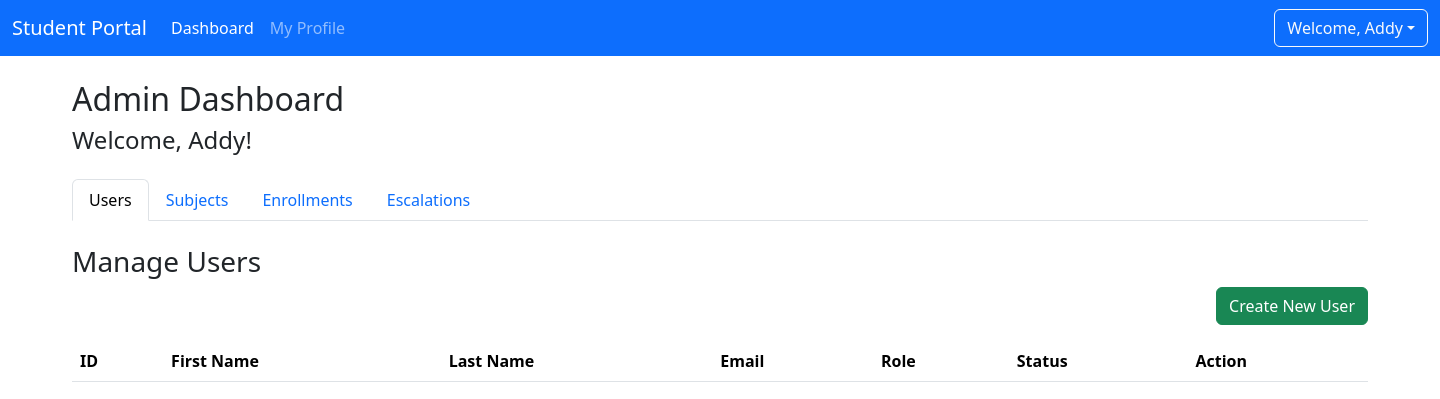
Test case: AdminDashboardPage — server-side pagination (26.7) › Enrollments tab › hides pagination on enrollments tab when totalCount is 0
This screenshot has width=1440, height=399.
Expected: the heading "Manage Users" is shown, [72,242,261,280]
Click the button "Enrollments": (308, 200) [246,179,370,221]
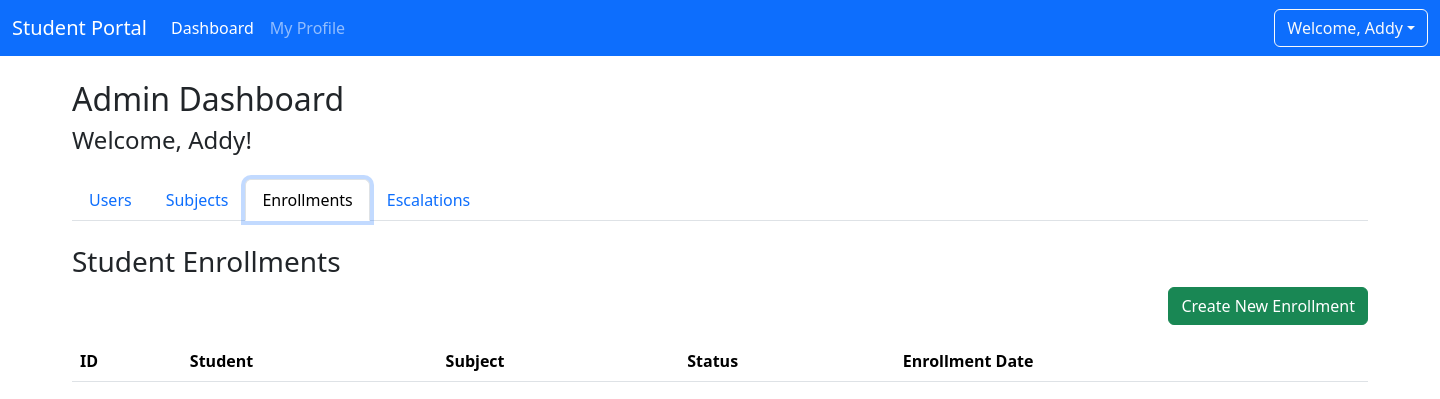
Now the heading "Student Enrollments" is shown, box [72,242,341,280]
